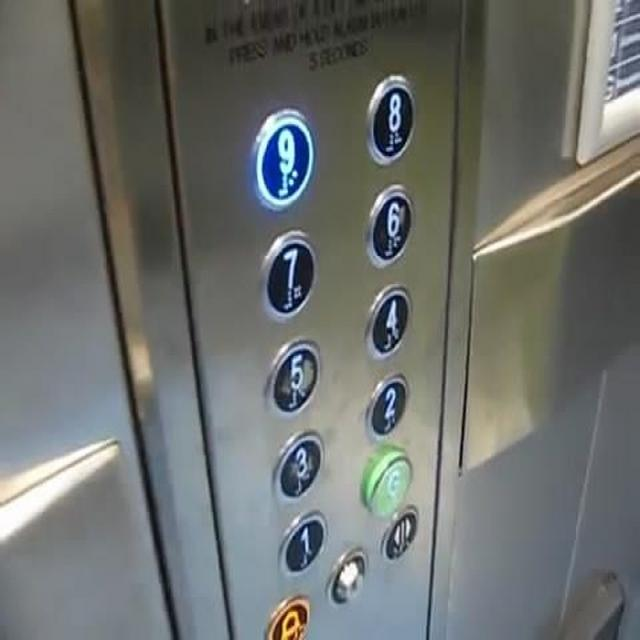1: (273, 505, 328, 580)
2: (362, 368, 410, 441)
3: (268, 426, 325, 506)
4: (361, 278, 414, 362)
5: (260, 333, 322, 420)
6: (360, 180, 415, 272)
7: (254, 224, 318, 324)
8: (361, 70, 417, 170)
9: (245, 104, 316, 215)
G: (357, 442, 414, 518)
alarm: (261, 588, 313, 639)
keyhole: (323, 544, 369, 611)
open: (378, 504, 420, 564)
